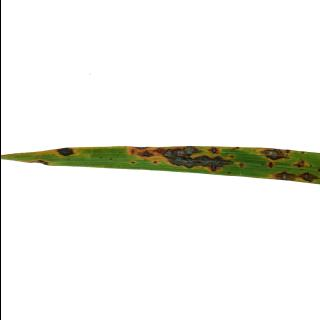Blast: (161, 147, 234, 173), (260, 150, 290, 162), (126, 148, 156, 159), (53, 147, 80, 159), (298, 172, 320, 184), (270, 171, 296, 181), (290, 160, 310, 168), (266, 164, 274, 168)
